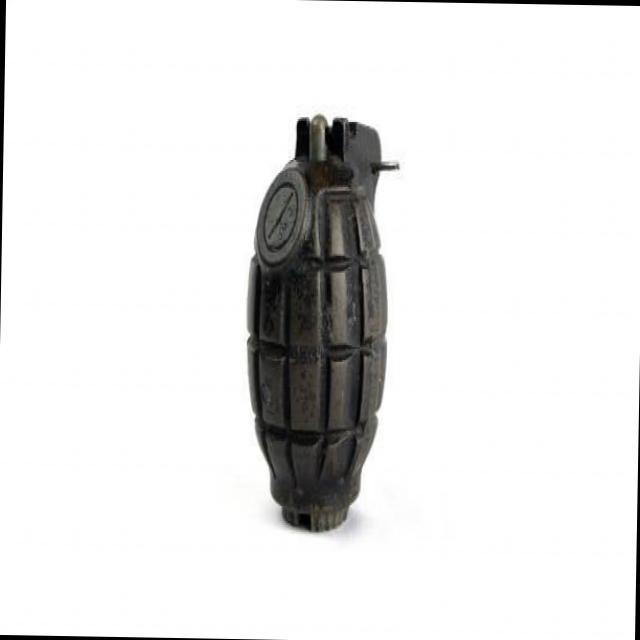grenade: (233, 103, 399, 534)
